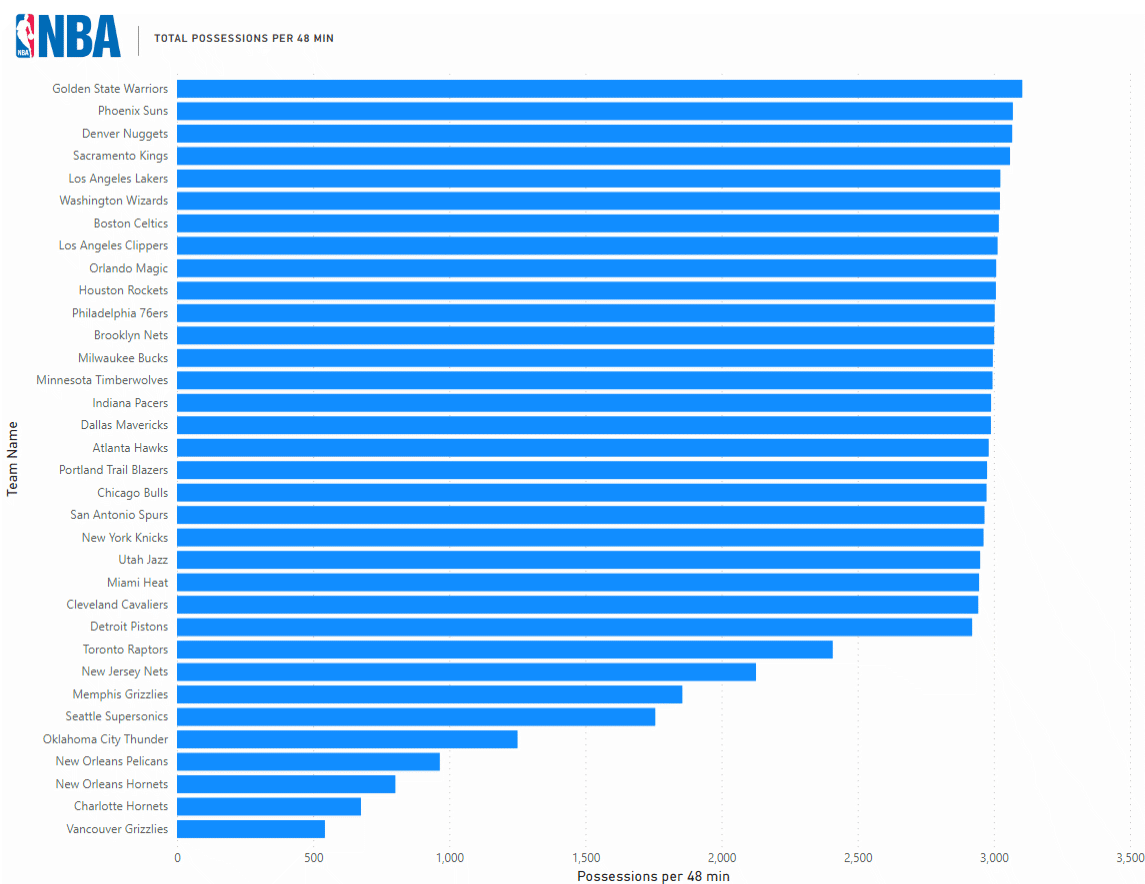

What the dashboard file says about the page in this screenshot:
{"tool":"powerbi","page":{"name":"Possesions per 48 min","canvas":[1280,720],"ordinal":7},"visuals":[{"type":"barChart","title":"Total Possessions per 48 min","fields":{"Category":["season_stats.Team Name"],"Y":["Sum(season_stats.Possessions per 48 min)"]},"box":[10,0,1270,719.5],"z":0}]}

Visuals, with their boxes on the page's 1280x720 design canvas (x1, y1, x2, y2). These are canvas units, not pixel positions in the 1145x884 screenshot, which may show the page scaled, cropped or inside an application window:
"Total Possessions per 48 min" barChart: x1=10 y1=0 x2=1280 y2=720
